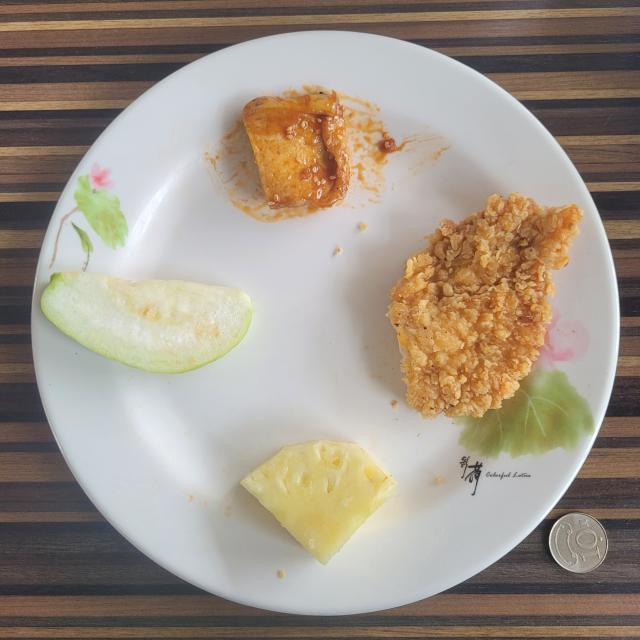coin: (549, 512, 609, 574)
creamy tofu: (242, 91, 350, 209)
fried chicken cutlet: (389, 192, 582, 419)
guava -sliced-: (41, 271, 252, 374)
pineapple: (241, 440, 396, 565)
